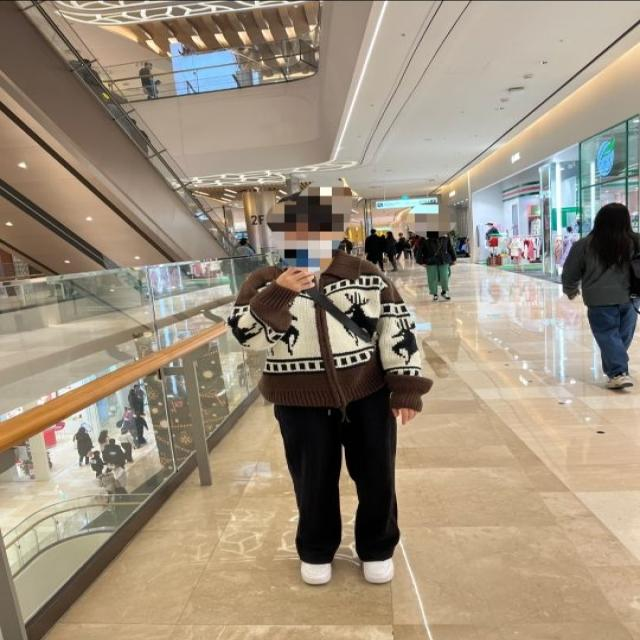cardigan: (226, 250, 434, 412)
slacks: (272, 397, 405, 566)
